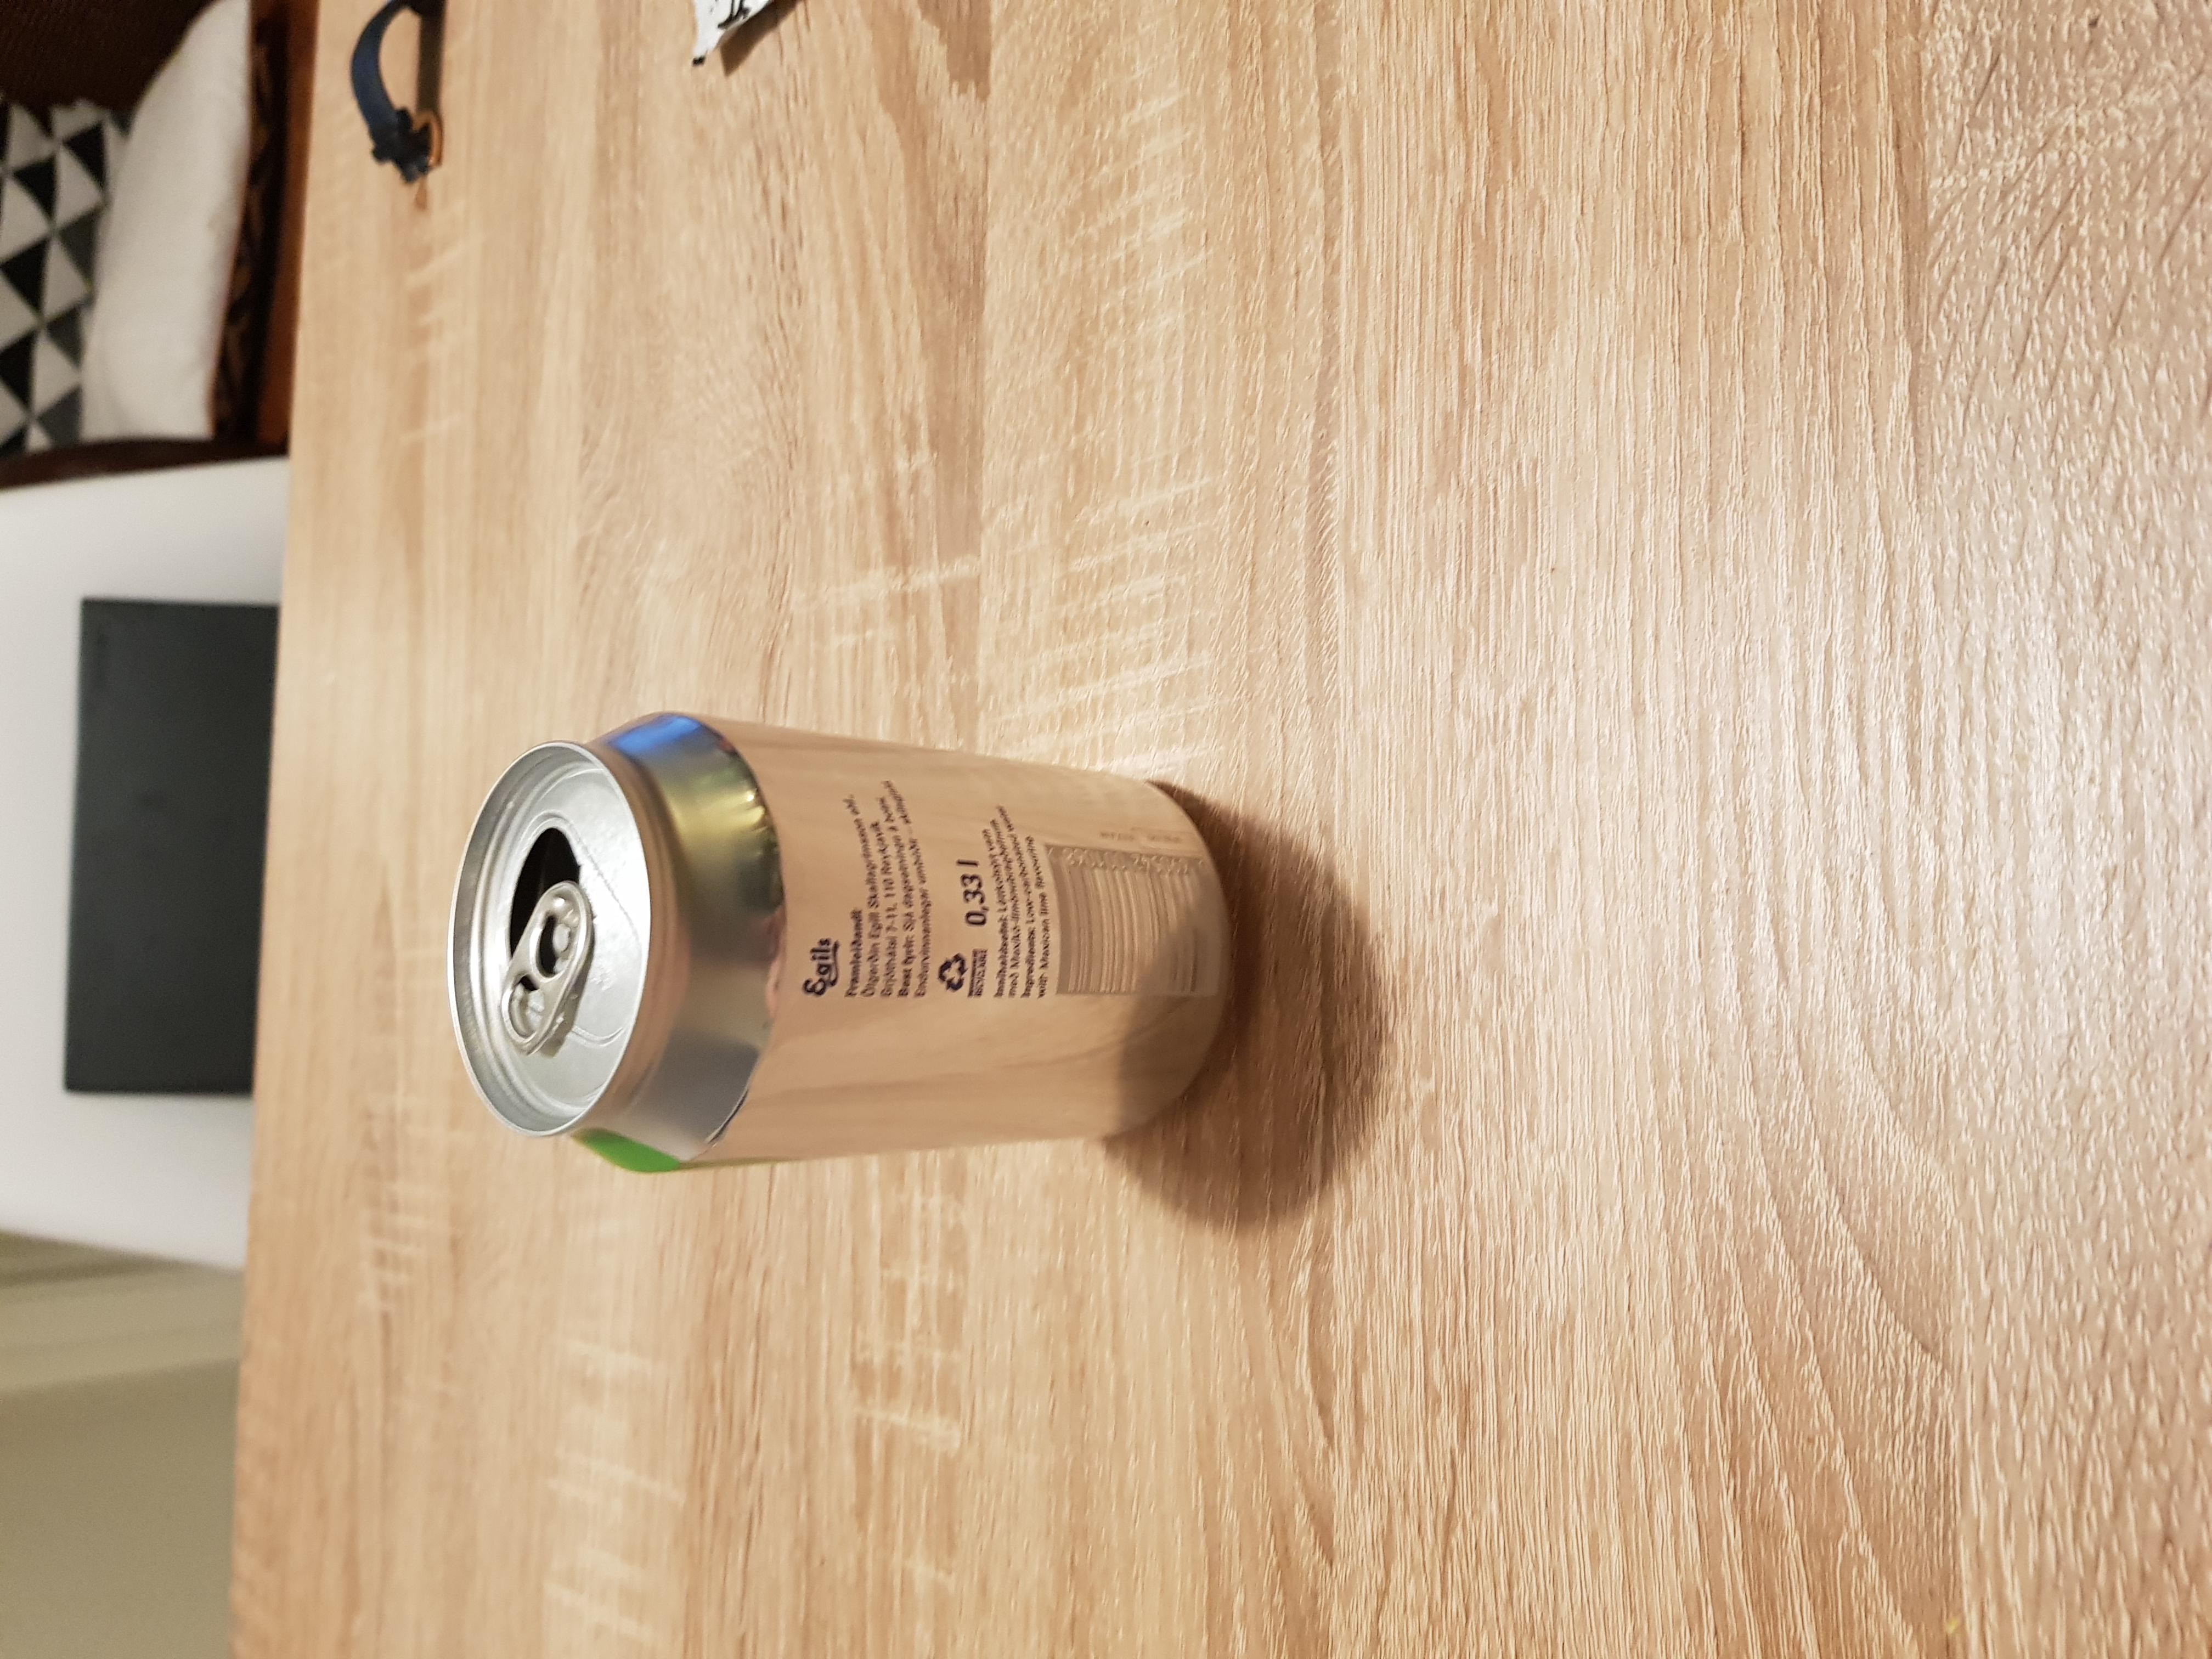can: (439, 713, 1242, 1180)
